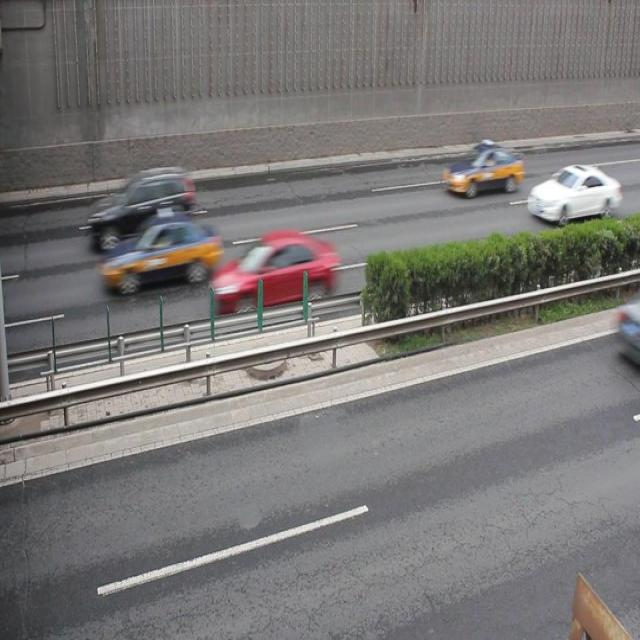car: (208, 228, 338, 314), (98, 210, 221, 294), (86, 164, 195, 251), (524, 162, 618, 224), (440, 140, 522, 199)
